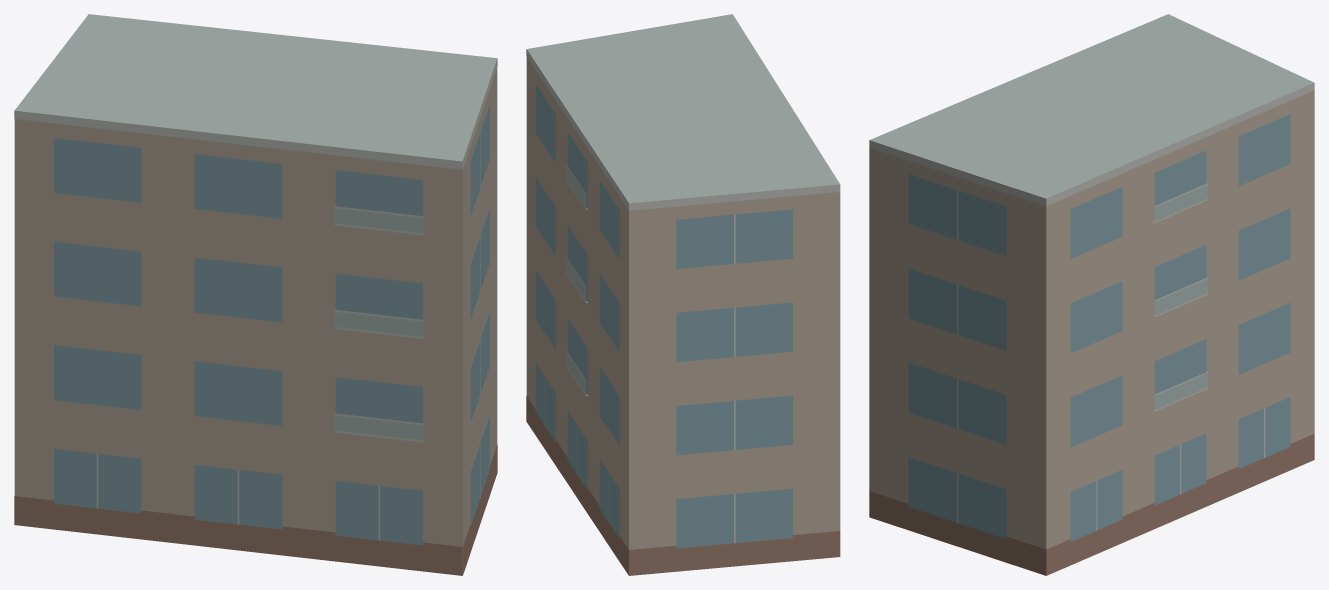
File: survey-upis-32773100.glb
3 renders of one model, left to right at view 1: azimuth 30°, elevation 25°; view 2: azimuth 150°, elevation 25°; view 3: azimuth 270°, elevation 25°, orthographic. The views are drawn at different scales.
Parts seen in each view (by area): view 1: survey-upis-32773100.tmp; view 2: survey-upis-32773100.tmp; view 3: survey-upis-32773100.tmp.
Boxes of the visible parts, x1,y1,x2,y2 form: survey-upis-32773100.tmp: (14, 14, 497, 575); survey-upis-32773100.tmp: (526, 14, 840, 575); survey-upis-32773100.tmp: (869, 14, 1314, 575).
Bounding box in the file's own units: 12.83 × 12.2 × 13.06.
